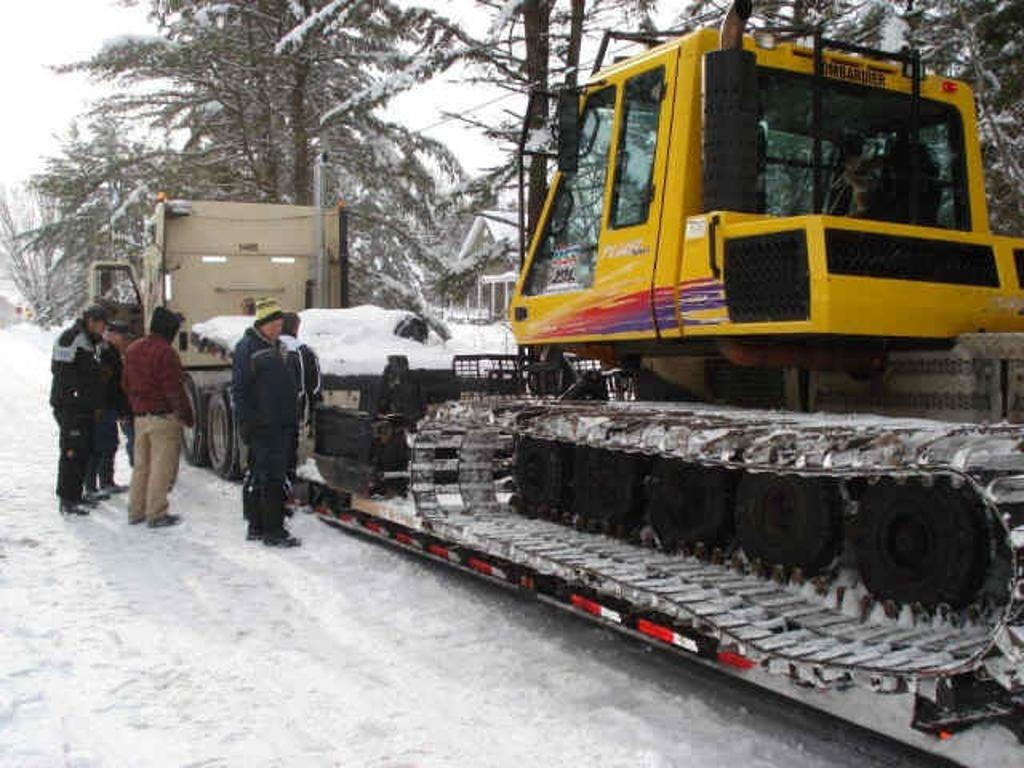human_face: (266, 316, 282, 338), (89, 314, 103, 334), (288, 318, 300, 336), (112, 329, 124, 345)
